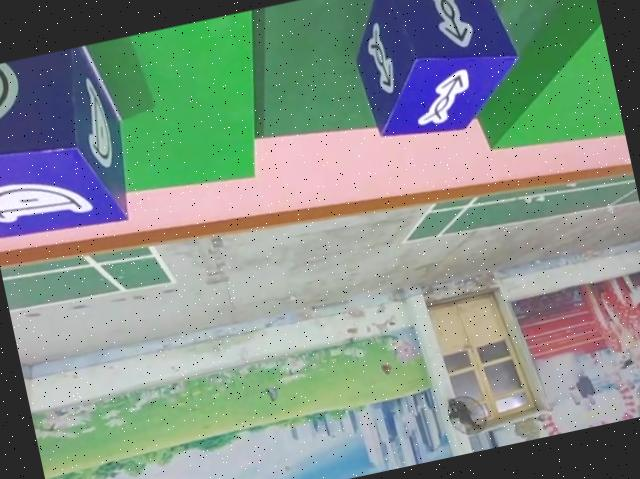R2 Real Blue: (0, 41, 141, 251), (338, 0, 525, 145)
